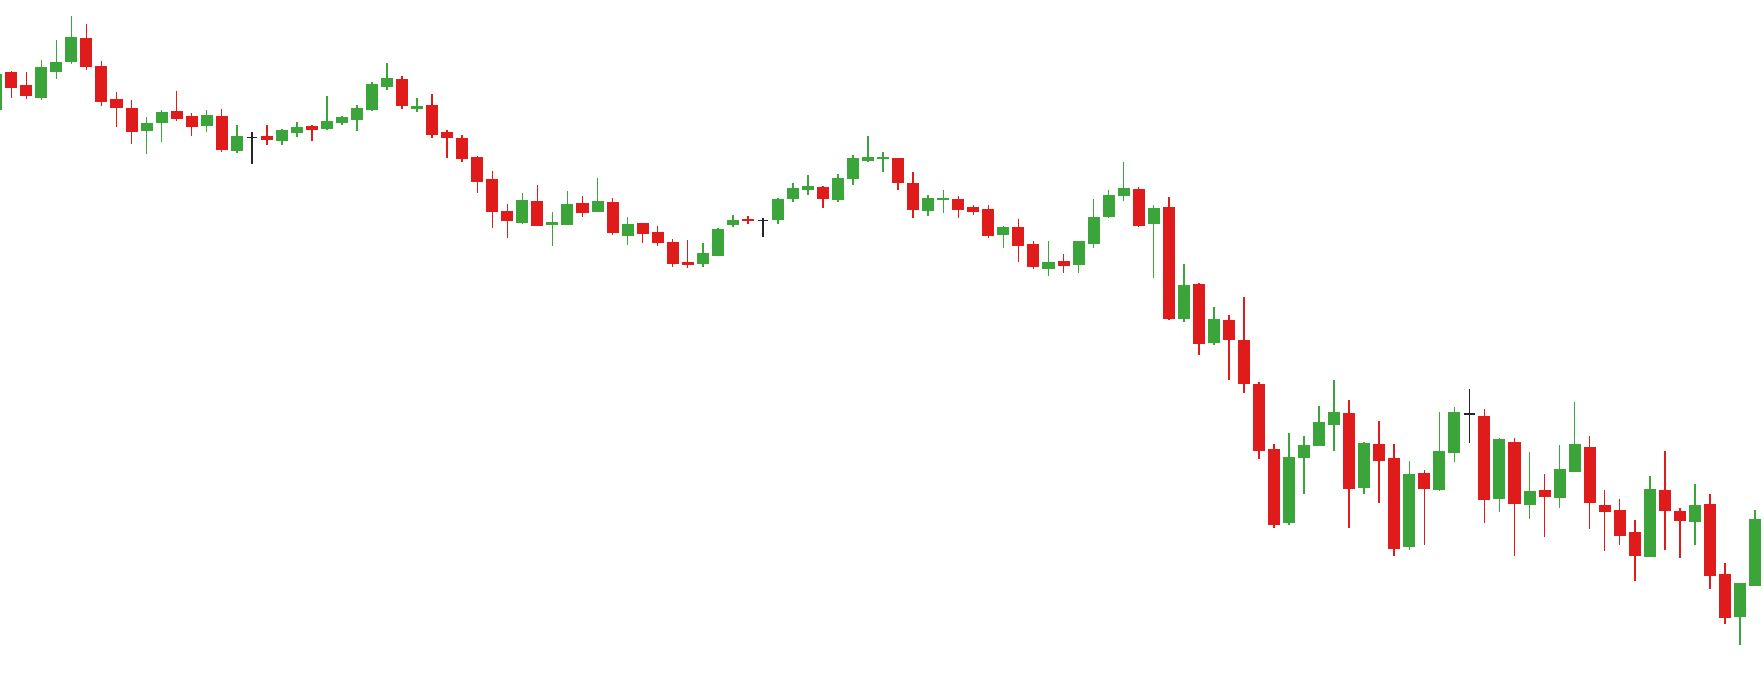sell: (170, 63, 412, 129)
